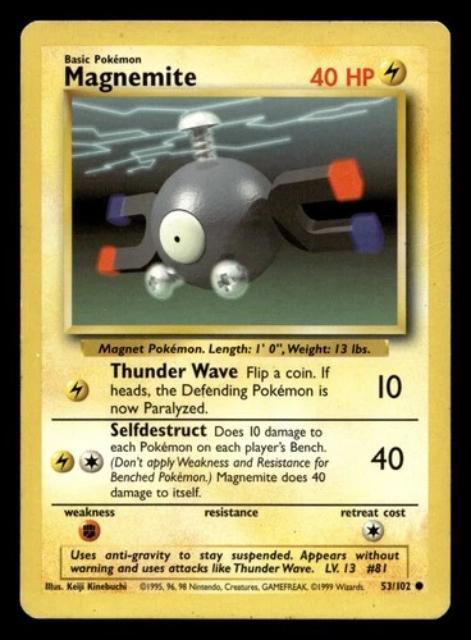Card: (17, 10, 453, 622)
Name: (59, 61, 198, 92)
